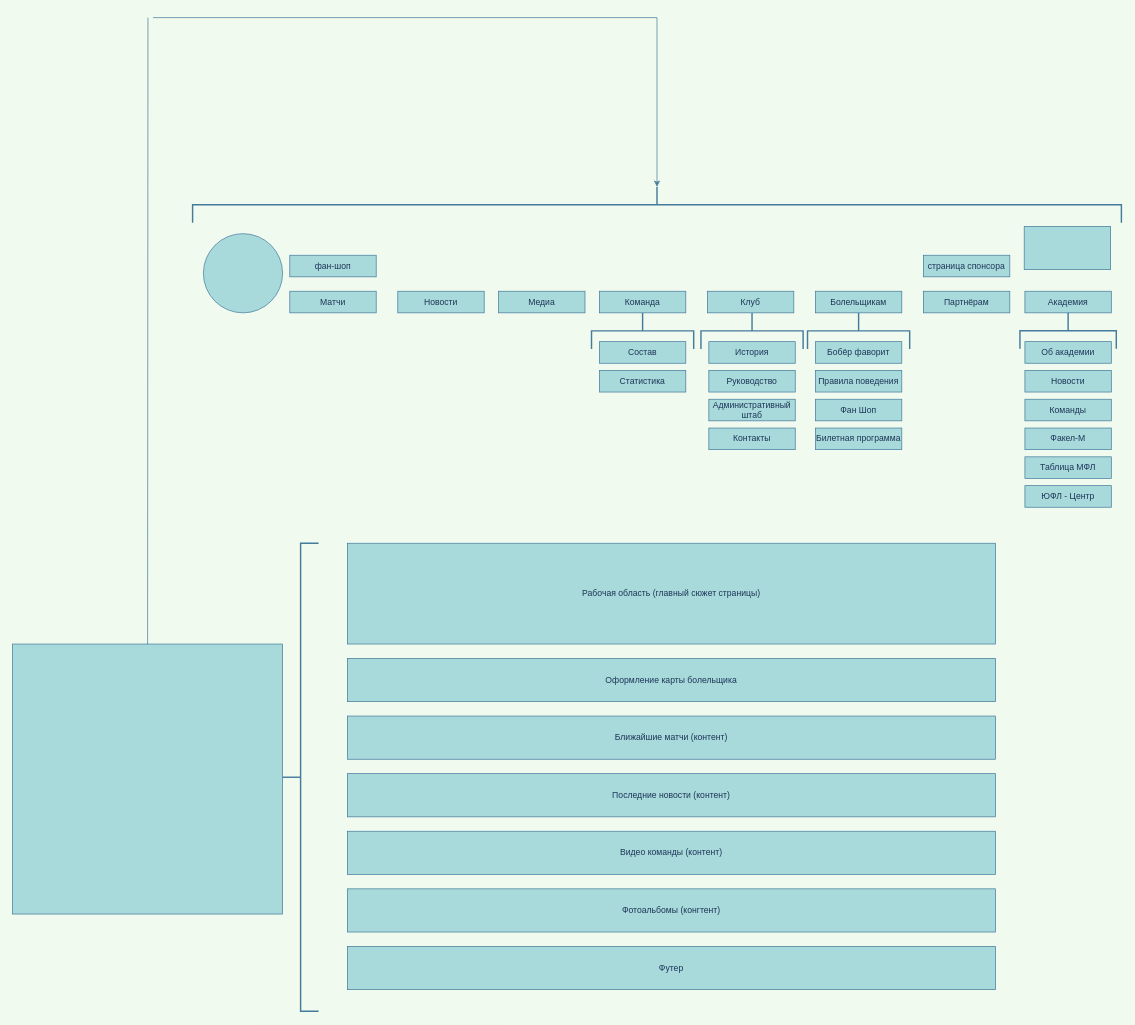
The diagram is 1135 pixels wide and 1025 high, and some of its shapes have lost their labels. Each missing label, with the centre of its shape:
Главная страница: the point at 147,778
ЛОГО: the point at 243,273
Соцсети команды: the point at 1067,248
